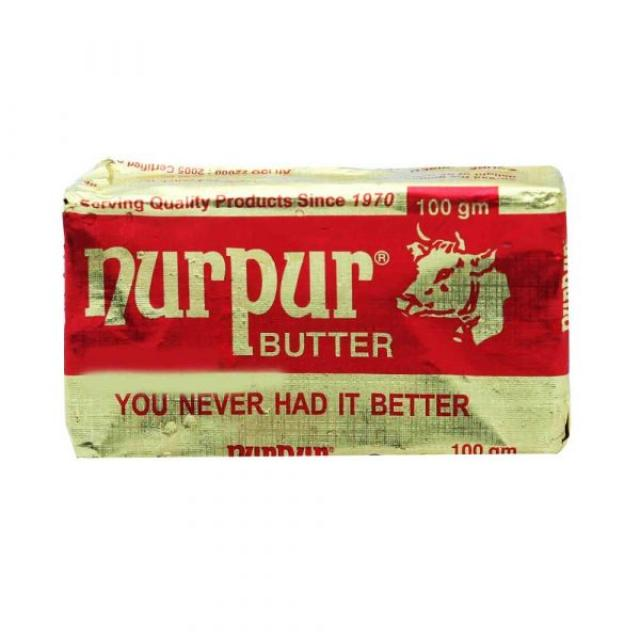butter: (62, 157, 571, 456)
